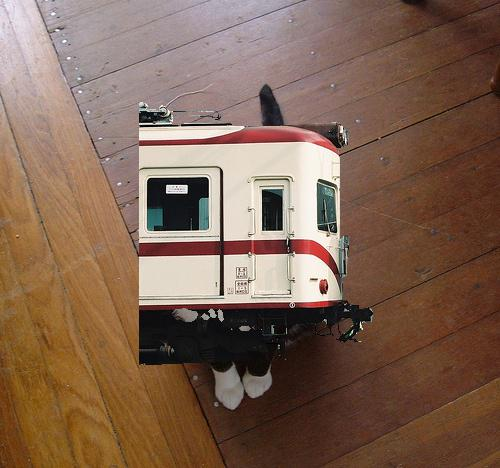tampered: (140, 103, 373, 365)
